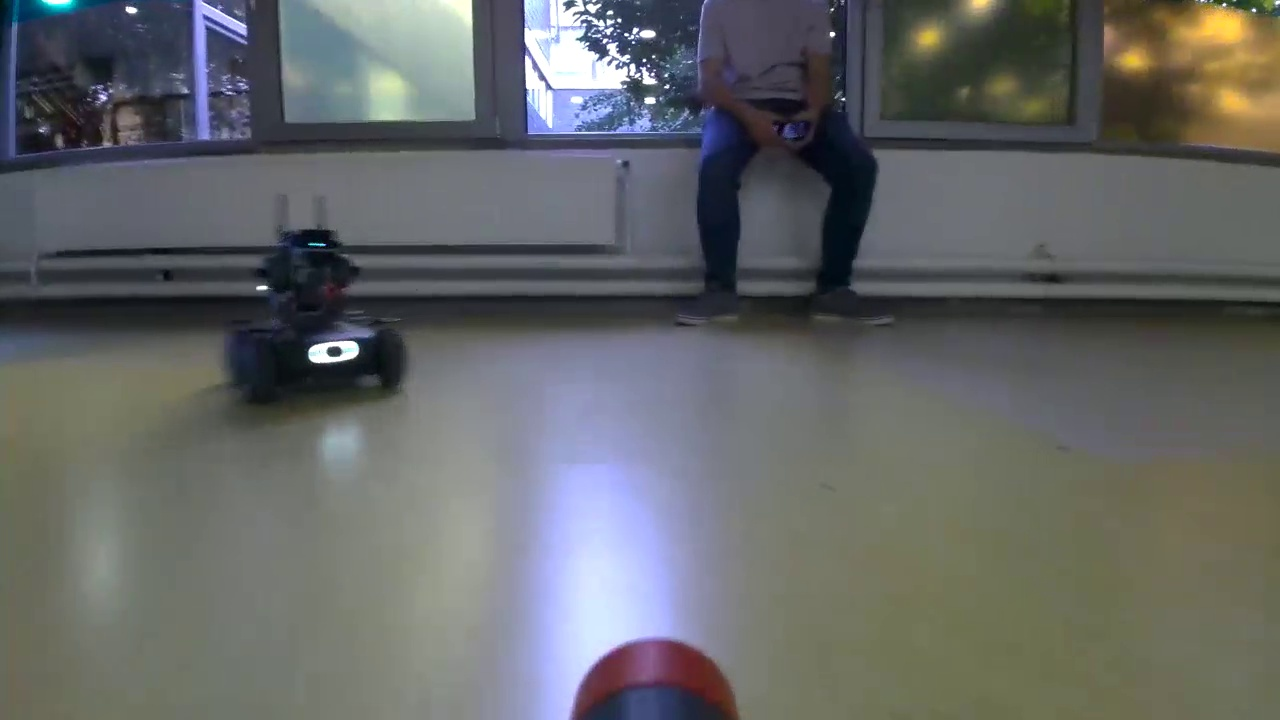robot: (222, 223, 416, 398)
